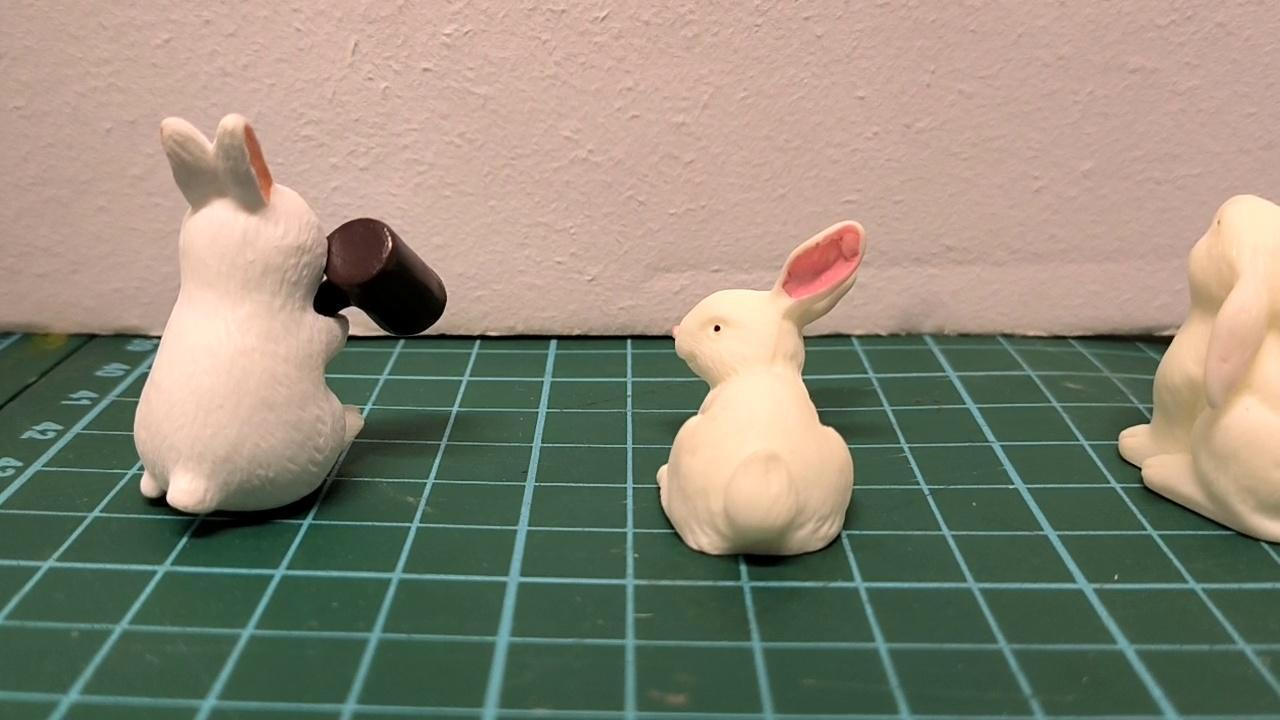pet: (134, 114, 366, 516), (653, 220, 868, 558), (1118, 191, 1280, 545)
